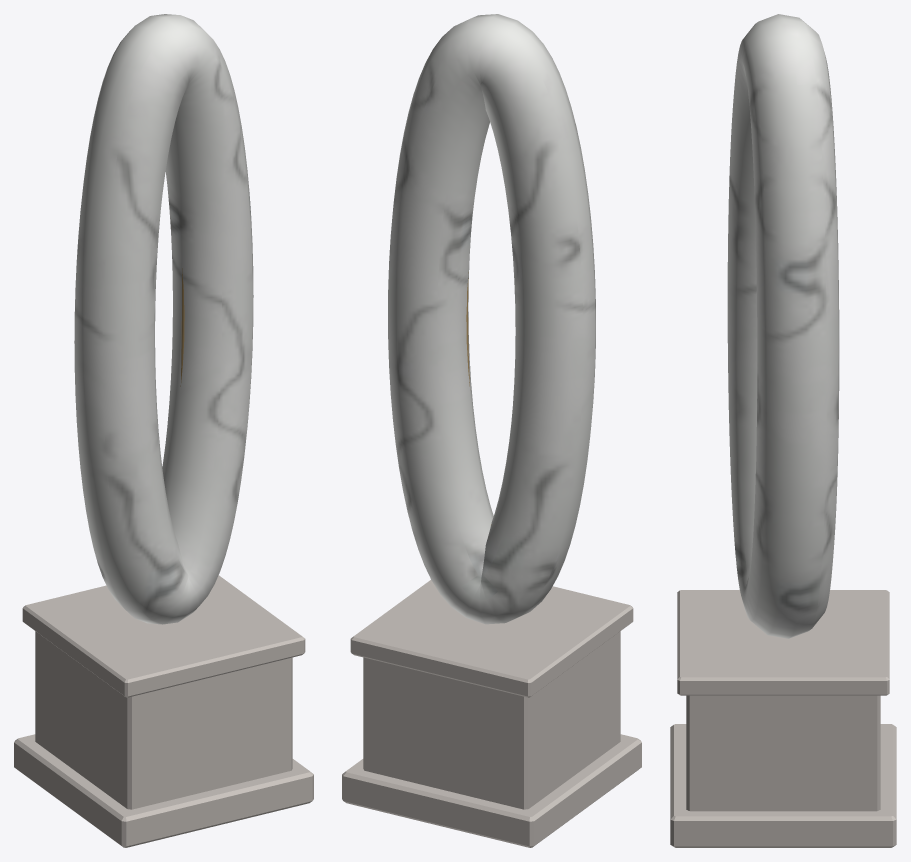
The model's file is desktop.glb.
The picture shows the model from 3 angles, left to right: view 1: azimuth 30°, elevation 25°; view 2: azimuth 150°, elevation 25°; view 3: azimuth 270°, elevation 25°; orthographic projection.
Size of the model in its own units: 0.78 by 2.98 by 0.78.
1 material, 1 textured.
